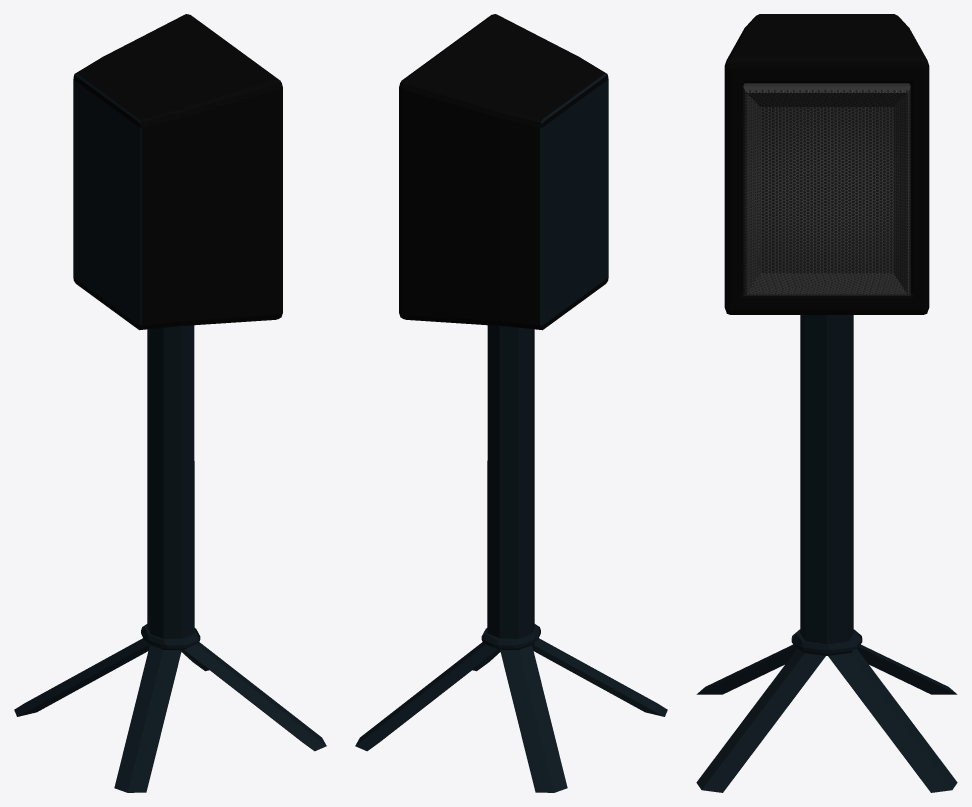
File: Speaker.fbx
3 renders of one model, left to right at view 1: azimuth 30°, elevation 25°; view 2: azimuth 150°, elevation 25°; view 3: azimuth 270°, elevation 25°, orthographic. The views are drawn at different scales.
Visible parts, largest first — view 1: Cube; view 2: Cube; view 3: Cube.
Boxes of the visible parts, x1,y1,x2,y2 form: Cube: (14, 14, 326, 792); Cube: (355, 14, 667, 792); Cube: (696, 14, 957, 792).
Size of the model in its own units: 247 by 756 by 251.
